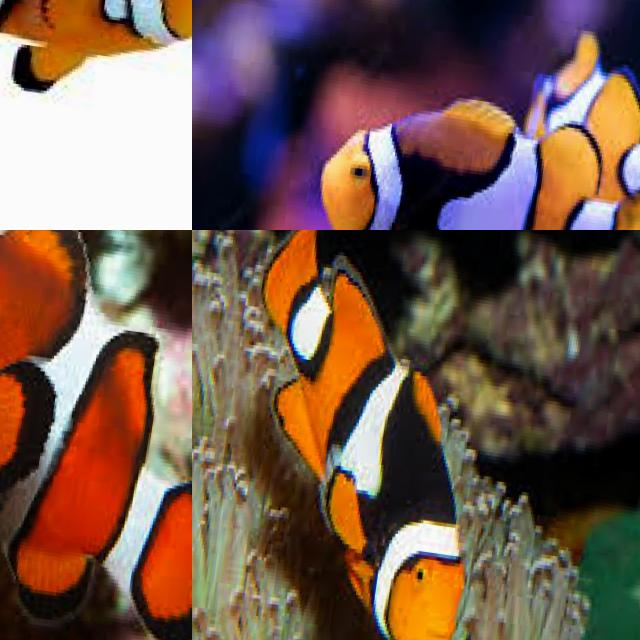Amphiprion-percula: (207, 230, 547, 640), (0, 230, 192, 640), (285, 69, 640, 230), (0, 0, 192, 200), (472, 14, 640, 230)
